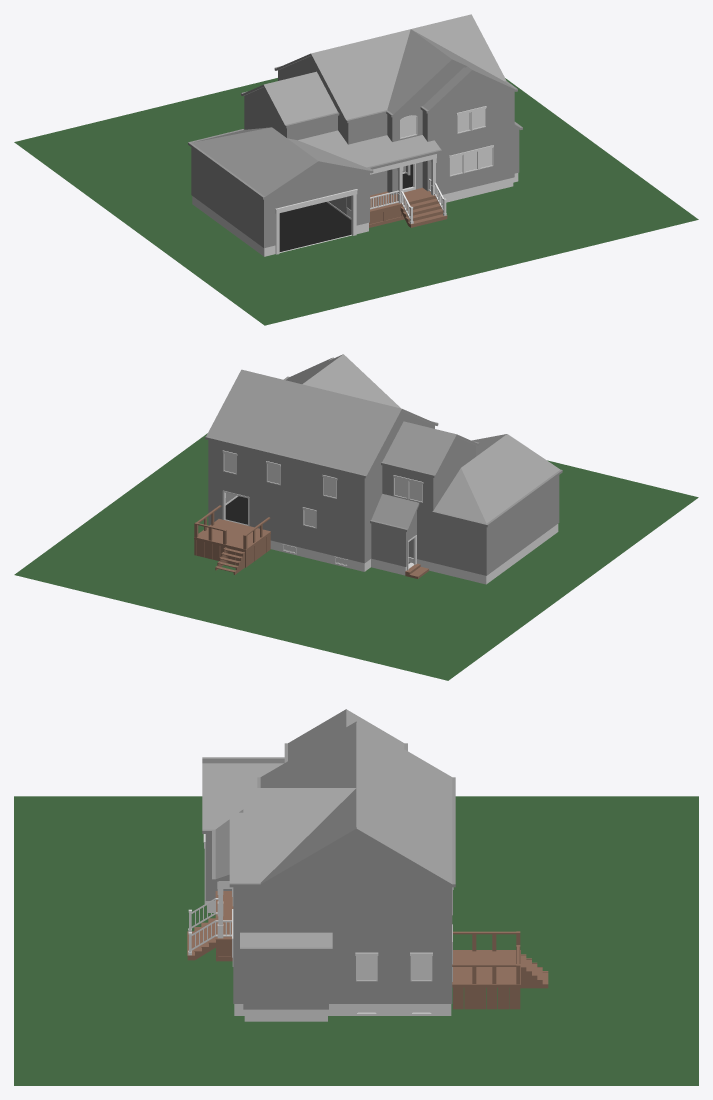
Rendered from fishtank_house.fbx.
The picture shows the model from 3 angles, top to bottom: view 1: azimuth 30°, elevation 25°; view 2: azimuth 150°, elevation 25°; view 3: azimuth 270°, elevation 25°; orthographic projection. The views are drawn at different scales.
Visible parts, largest first — view 1: OUTSIDE GROUND, roofs_outside_top, gf_outside_walls.001, ff_outside_walls, roof_walls_outside, b_garage_floor, roof_outside_trims, b_walls, porch_main.003, Cube.011, upstairs_windows, gf_windows (+3 smaller); view 2: OUTSIDE GROUND, roofs_outside_top, gf_outside_walls.001, ff_outside_walls, b_walls, roof_outside_trims, gf_basement_exit_walls, deck_planks, roof_walls_outside, upstairs_windows, deck_sides, upstairs_windows_frames (+1 smaller); view 3: OUTSIDE GROUND, roofs_outside_top, gf_outside_walls.001, ff_outside_walls, roof_walls_outside, b_walls, deck_planks, deck_sides, roof_outside_trims, porch_main.003, gf_windows, gf_windows_frames (+1 smaller).
Boxes of the visible parts, x1,y1,x2,y2 form: OUTSIDE GROUND: [14, 78, 698, 325]; roofs_outside_top: [188, 14, 522, 197]; gf_outside_walls.001: [191, 127, 519, 248]; ff_outside_walls: [244, 70, 514, 145]; roof_walls_outside: [245, 56, 513, 196]; b_garage_floor: [279, 202, 351, 251]; roof_outside_trims: [188, 53, 522, 199]; b_walls: [192, 173, 518, 256]; porch_main.003: [370, 187, 447, 224]; Cube.011: [275, 189, 357, 254]; upstairs_windows: [400, 109, 484, 137]; gf_windows: [450, 148, 492, 175]; OUTSIDE GROUND: [14, 433, 698, 680]; roofs_outside_top: [205, 354, 562, 529]; gf_outside_walls.001: [208, 475, 559, 575]; ff_outside_walls: [208, 426, 475, 513]; b_walls: [270, 524, 558, 584]; roof_outside_trims: [205, 409, 562, 531]; gf_basement_exit_walls: [371, 523, 416, 566]; deck_planks: [194, 519, 270, 551]; roof_walls_outside: [369, 411, 475, 527]; upstairs_windows: [224, 453, 421, 501]; deck_sides: [194, 534, 270, 567]; upstairs_windows_frames: [222, 450, 423, 502]; OUTSIDE GROUND: [14, 796, 698, 1085]; roofs_outside_top: [202, 709, 455, 948]; gf_outside_walls.001: [205, 834, 452, 1009]; ff_outside_walls: [233, 886, 452, 935]; roof_walls_outside: [220, 831, 449, 885]; b_walls: [207, 901, 451, 1021]; deck_planks: [452, 950, 520, 987]; deck_sides: [453, 987, 520, 1009]; roof_outside_trims: [202, 828, 455, 952]; porch_main.003: [187, 891, 233, 956]; gf_windows: [357, 956, 431, 979]; gf_windows_frames: [232, 909, 432, 981].
Size of the model in its own units: 1800 by 657 by 1800.
